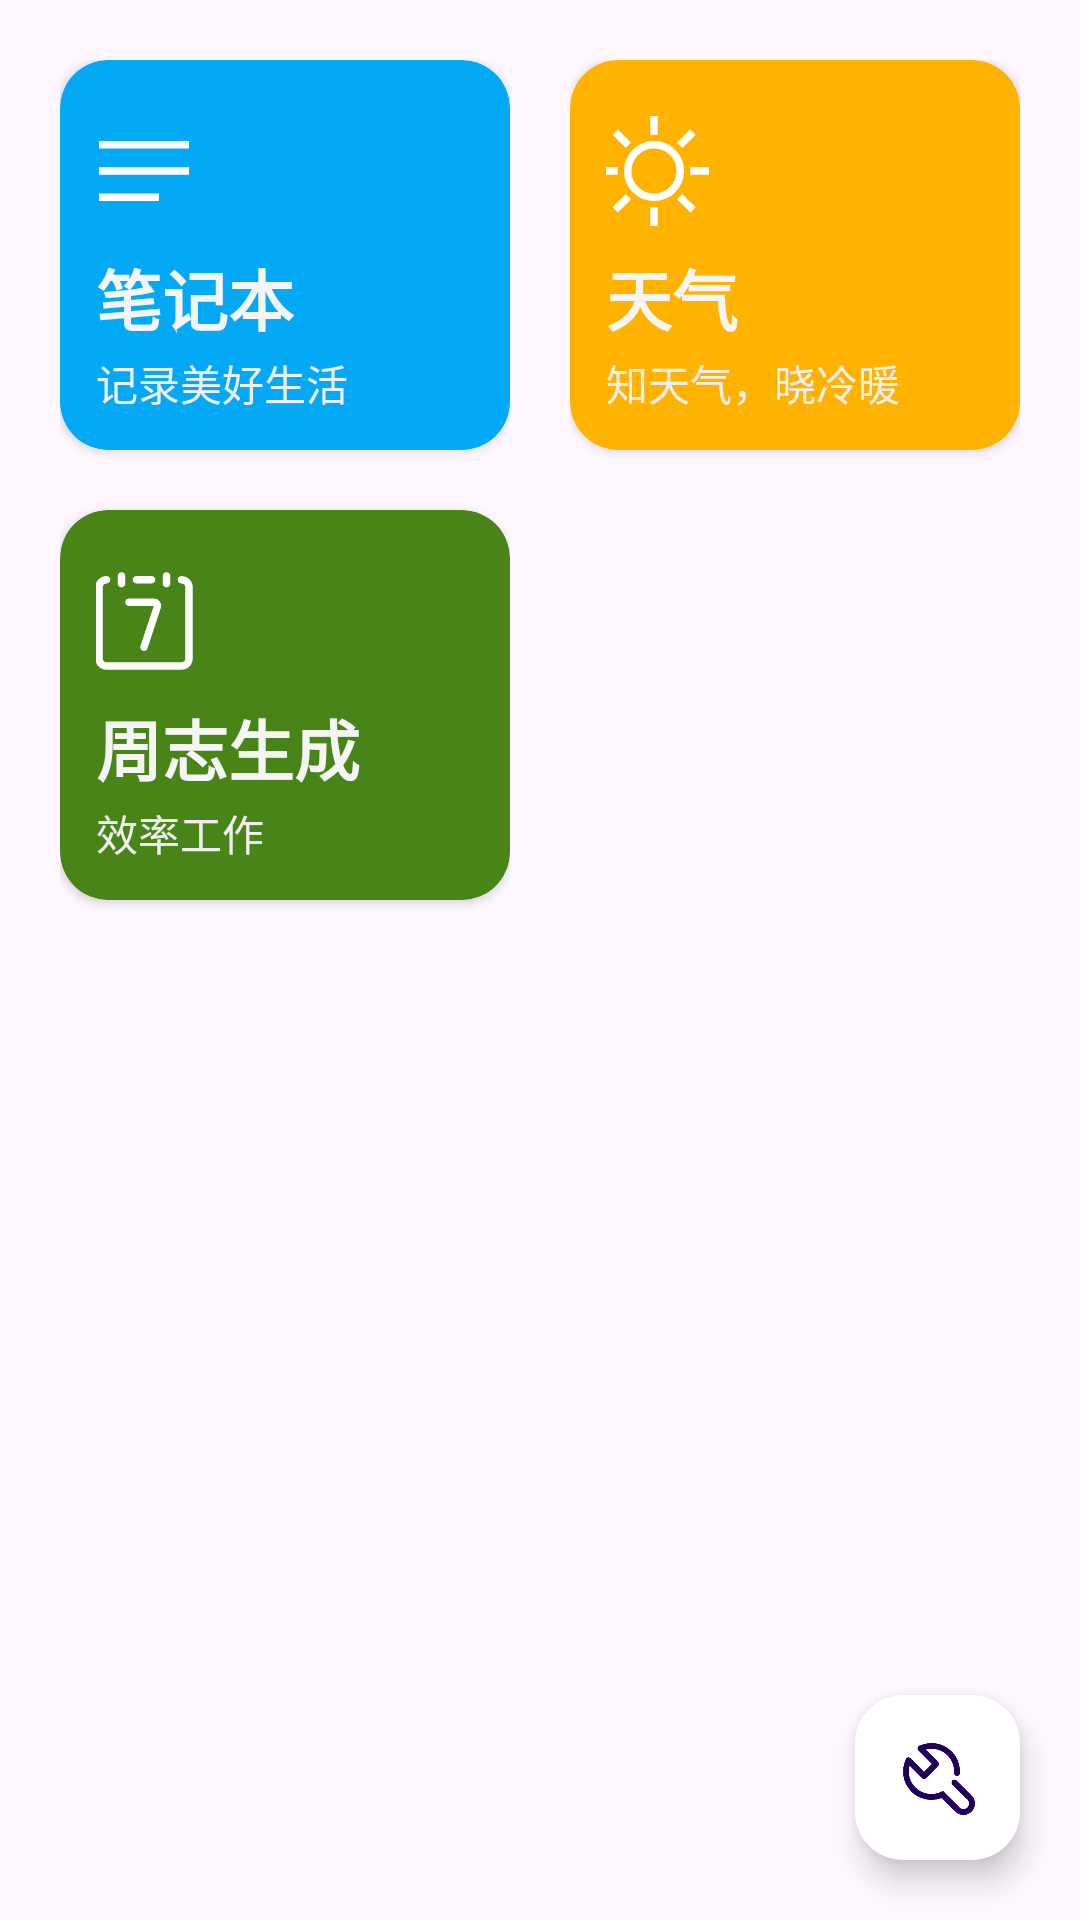

Where icons sit on this 1080×1920 app screen, as Rect(x1, y1, x2, y2):
fbt setting: Rect(855, 1695, 1020, 1860)
